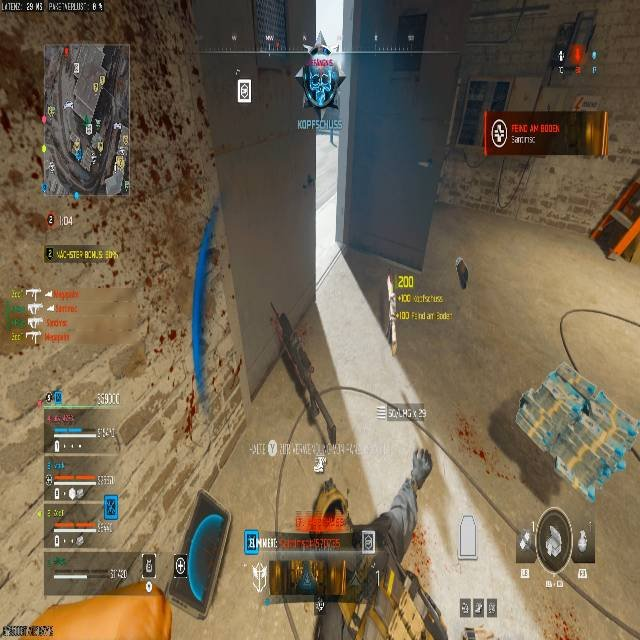player: (296, 40, 344, 131)
